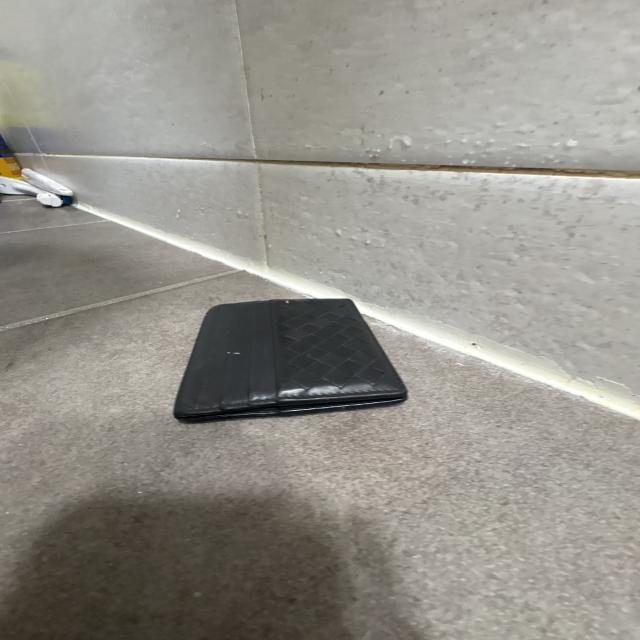wallet: (174, 297, 408, 426)
